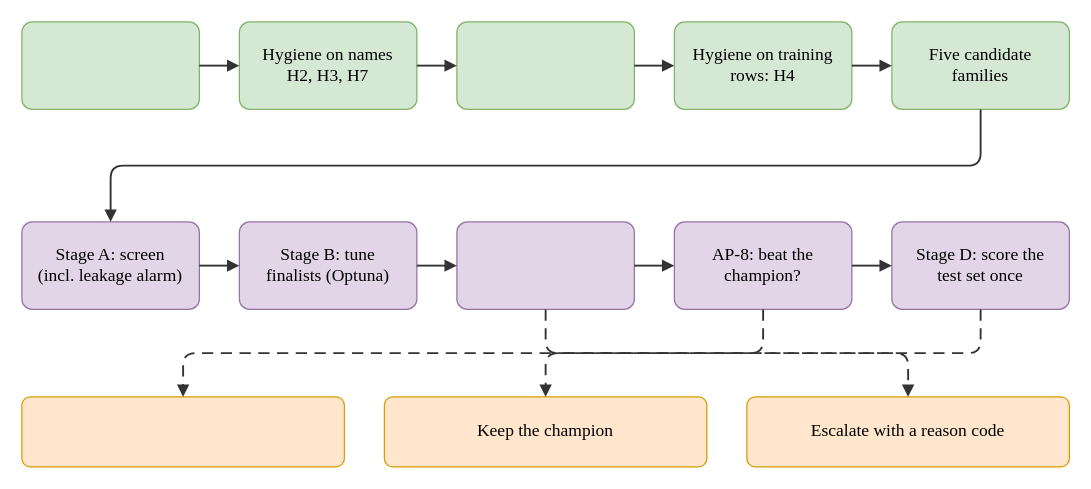
The diagram is 1091 pixels wide and 489 high, and some of its shapes have lost their labels. The box of each missing label's shape, as (x1, y1, x2, y2) in pixels:
Features and labels: (21, 21, 199, 109)
Promote: request approval: (21, 396, 344, 467)
Stage C: calibrate, AP-4 to AP-6: (456, 221, 634, 309)
Temporal split with 90-day gaps: (456, 21, 634, 109)
